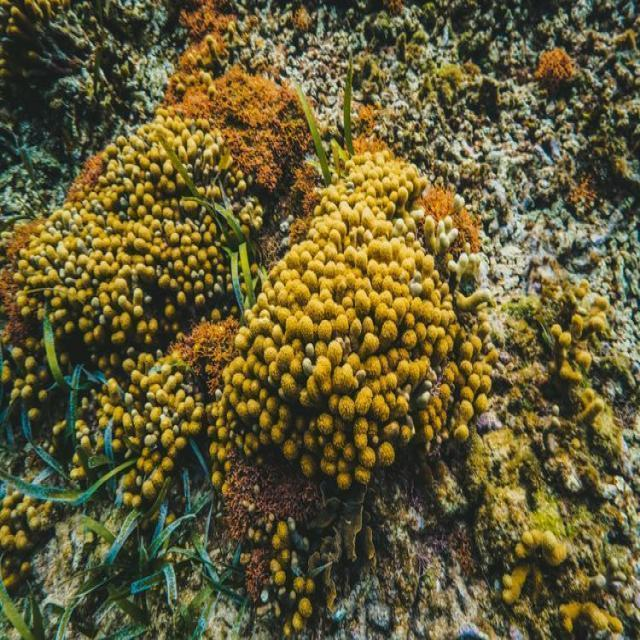Healthy Coral: (21, 145, 493, 538)
